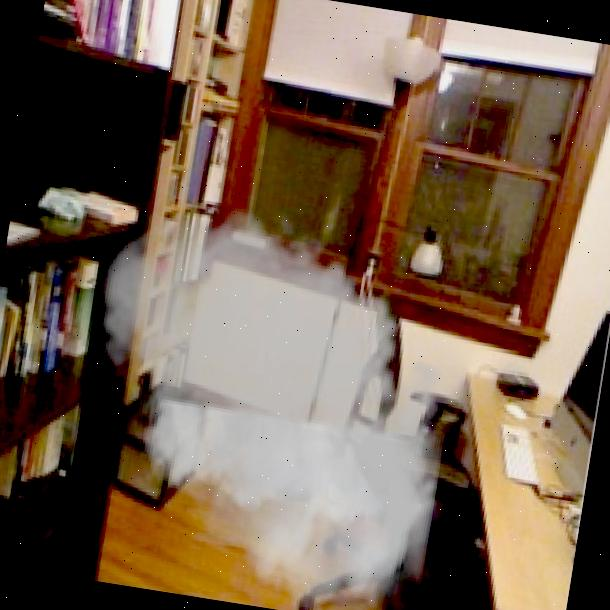smoke: (49, 174, 490, 610)
